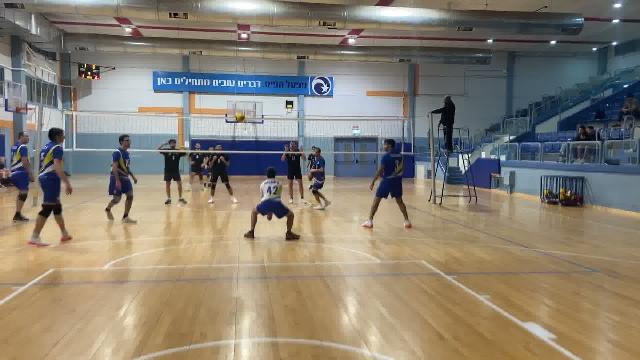ball: (232, 111, 247, 123)
